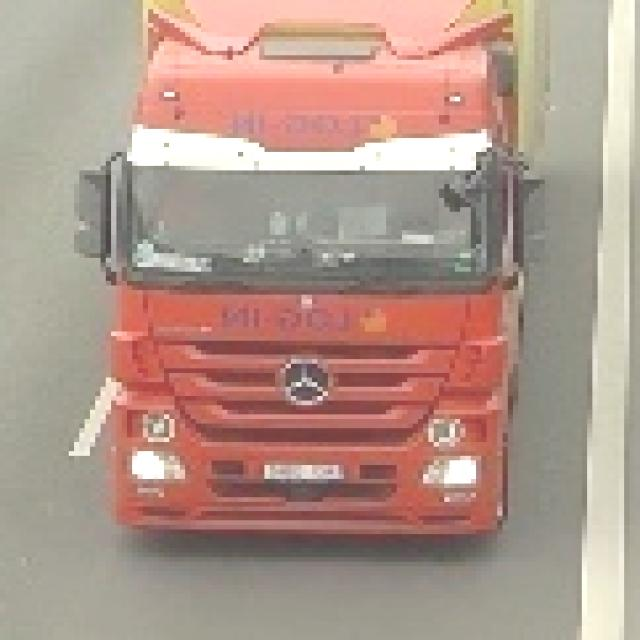truck: (70, 1, 535, 535)
